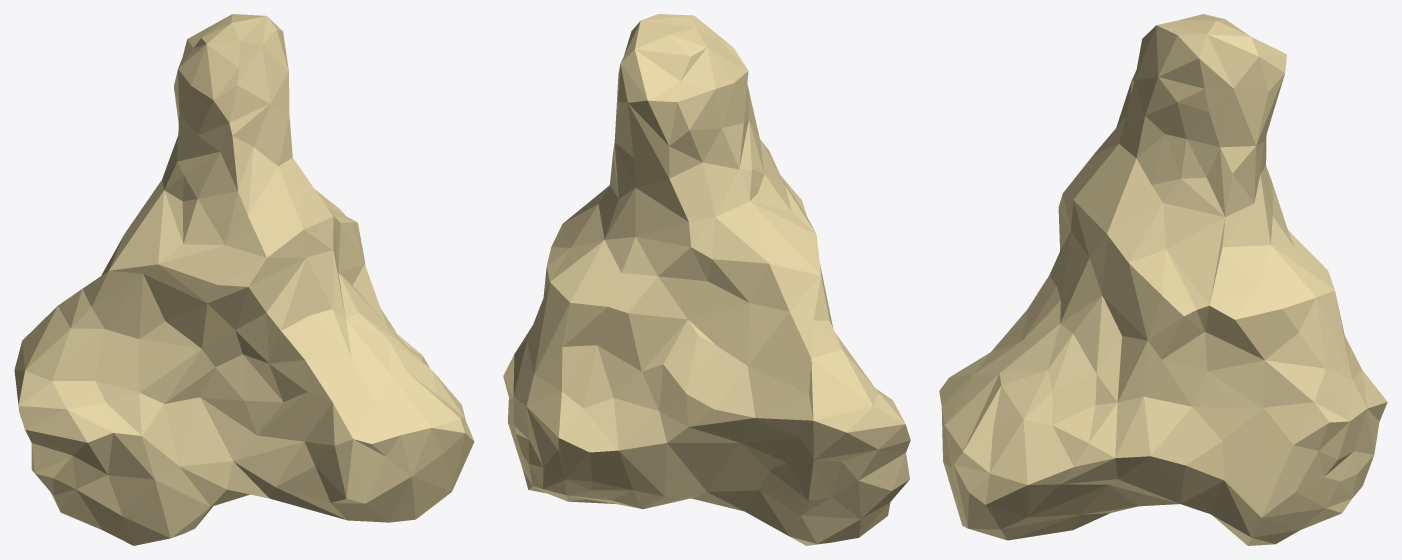
Rendered from Asteroid (18).fbx.
3 views of the same model, side by side, from view 1: azimuth 30°, elevation 25°; view 2: azimuth 150°, elevation 25°; view 3: azimuth 270°, elevation 25° (orthographic). The views are drawn at different scales.
Parts seen in each view (by area): view 1: Asteroid135; view 2: Asteroid135; view 3: Asteroid135.
Part boxes in pixels (x1,y1,x2,y2): Asteroid135: (14,14,474,545); Asteroid135: (503,14,910,545); Asteroid135: (939,14,1387,545).
Size of the model in its own units: 171 by 208 by 166.
